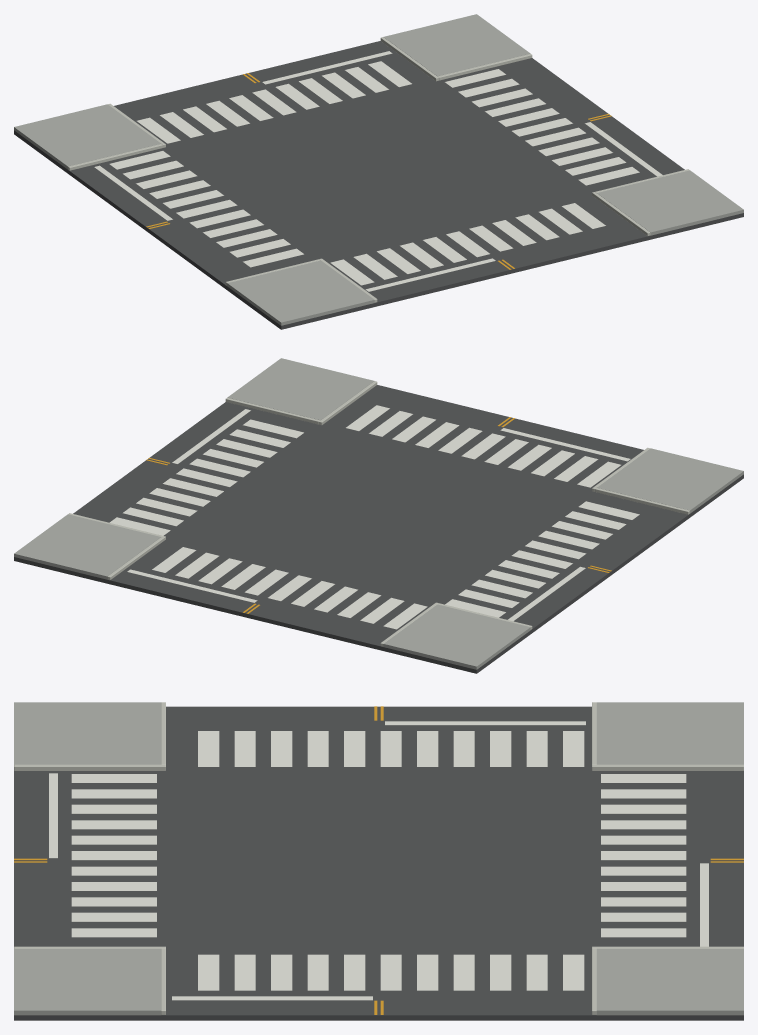
File: road-intersection.glb
3 renders of one model, top to bottom at view 1: azimuth 30°, elevation 25°; view 2: azimuth 150°, elevation 25°; view 3: azimuth 270°, elevation 25°, orthographic. The views are drawn at different scales.
Visible parts, largest first — view 1: road-intersection_bituminous-asphalt, road-intersection_off-white-painted, road-intersection_concrete-pavers, road-intersection_light-precast-concrete; view 2: road-intersection_bituminous-asphalt, road-intersection_off-white-painted, road-intersection_concrete-pavers, road-intersection_light-precast-concrete; view 3: road-intersection_bituminous-asphalt, road-intersection_off-white-painted, road-intersection_concrete-pavers, road-intersection_light-precast-concrete, road-intersection_safety-yellow.
Part boxes in pixels (box(x1,y1,x2,y2)): road-intersection_bituminous-asphalt: box(14, 41, 743, 329); road-intersection_off-white-painted: box(94, 51, 662, 291); road-intersection_concrete-pavers: box(14, 14, 743, 325); road-intersection_light-precast-concrete: box(68, 37, 689, 302); road-intersection_bituminous-asphalt: box(14, 385, 743, 673); road-intersection_off-white-painted: box(109, 405, 639, 629); road-intersection_concrete-pavers: box(14, 358, 743, 669); road-intersection_light-precast-concrete: box(68, 381, 689, 646); road-intersection_bituminous-asphalt: box(14, 706, 743, 1020); road-intersection_off-white-painted: box(49, 721, 708, 1000); road-intersection_concrete-pavers: box(14, 702, 743, 1015); road-intersection_light-precast-concrete: box(14, 702, 743, 1014); road-intersection_safety-yellow: box(14, 706, 743, 1014).
Bounding box in the file's own units: 24 × 0.3602 × 24.
Materials: 4 (4 with a texture image).
